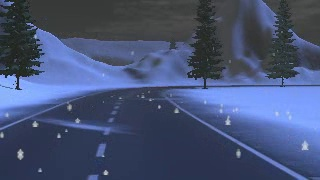Lane: (0, 87, 303, 179)
